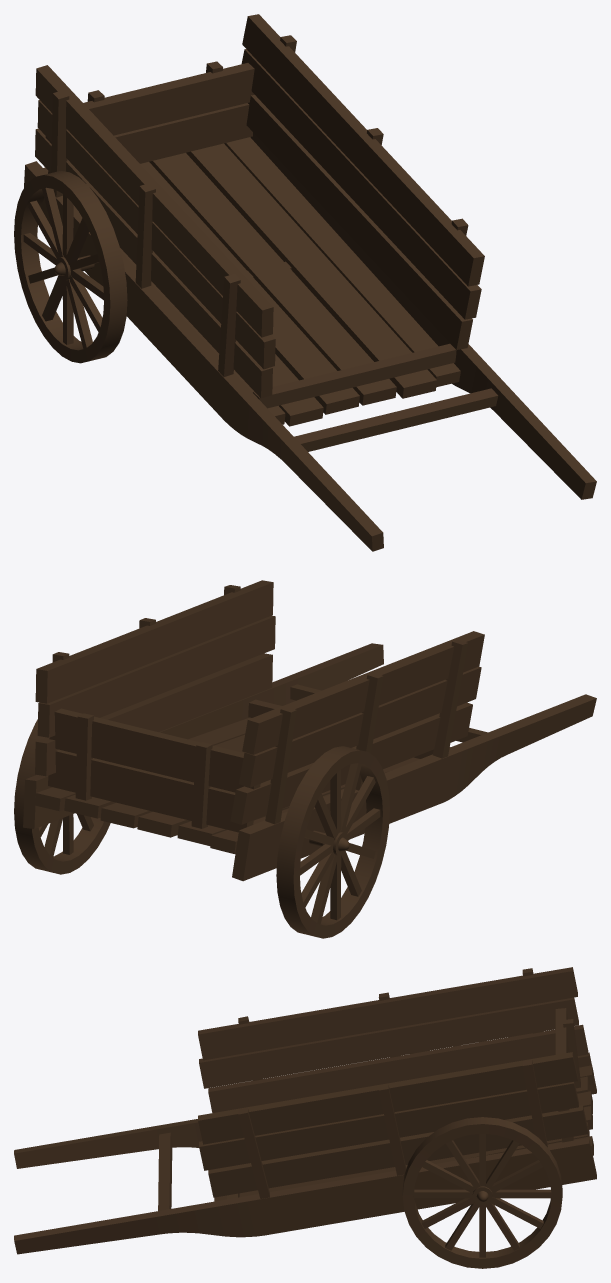
File: survey-cart.obj
3 renders of one model, top to bottom at view 1: azimuth 30°, elevation 25°; view 2: azimuth 150°, elevation 25°; view 3: azimuth 270°, elevation 25°, orthographic. The views are drawn at different scales.
Bounding box in the file's own units: 1.95 × 1.53 × 4.02.
